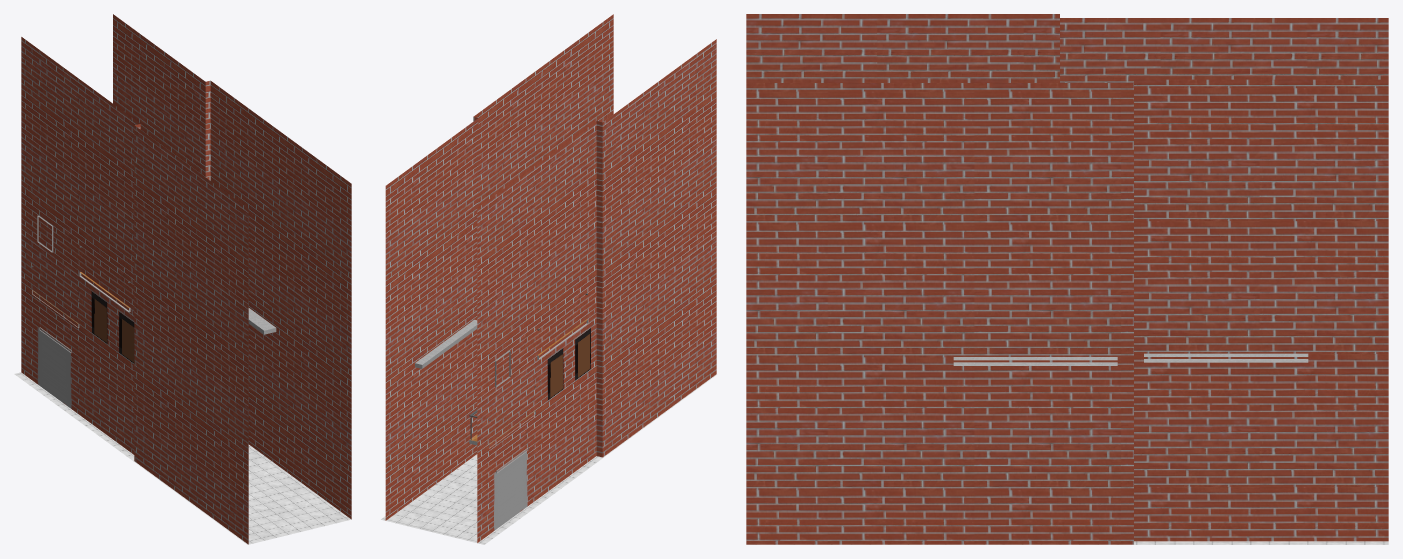
The picture shows the model from 3 angles, left to right: view 1: azimuth 30°, elevation 25°; view 2: azimuth 150°, elevation 25°; view 3: azimuth 270°, elevation 25°; orthographic projection. The views are drawn at different scales.
Parts seen in each view (by area): view 1: 3 bg.012; view 2: 3 bg.012, 3 bg.013; view 3: 3 bg.012, 3 bg.011, 3 bg.013.
Part boxes in pixels (box(x1,y1,x2,y2)): 3 bg.012: box(14, 14, 351, 544); 3 bg.012: box(381, 14, 716, 544); 3 bg.013: box(415, 319, 477, 368); 3 bg.012: box(746, 14, 1388, 544); 3 bg.011: box(953, 357, 1117, 365); 3 bg.013: box(1144, 353, 1308, 362).
Size of the model in its own units: 14.14 by 41.6 by 52.44.
Materials: 1 (1 with a texture image).
